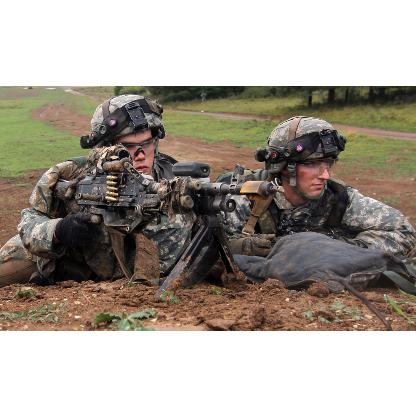gun: (52, 141, 283, 295), (270, 216, 346, 246)
